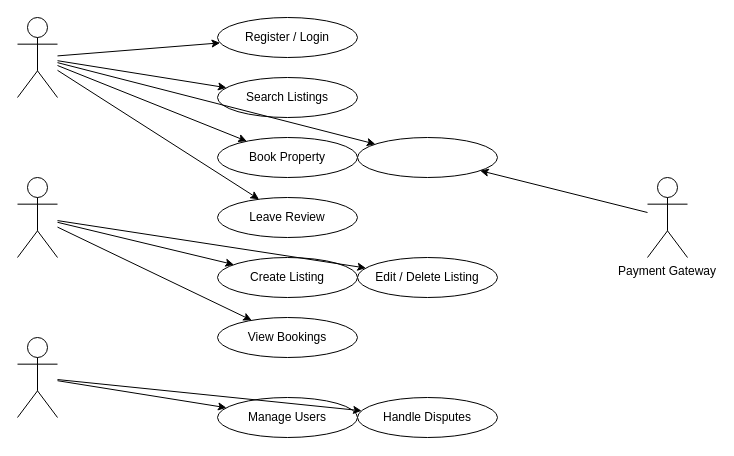
This 734x456 diagram has some shape labels left out. Here are the shapes that lost their labels. From the top down, the box of each, then its label:
(16, 16, 58, 98): Guest
(356, 136, 498, 178): Make Payment
(16, 176, 58, 258): Host
(16, 336, 58, 418): Admin
